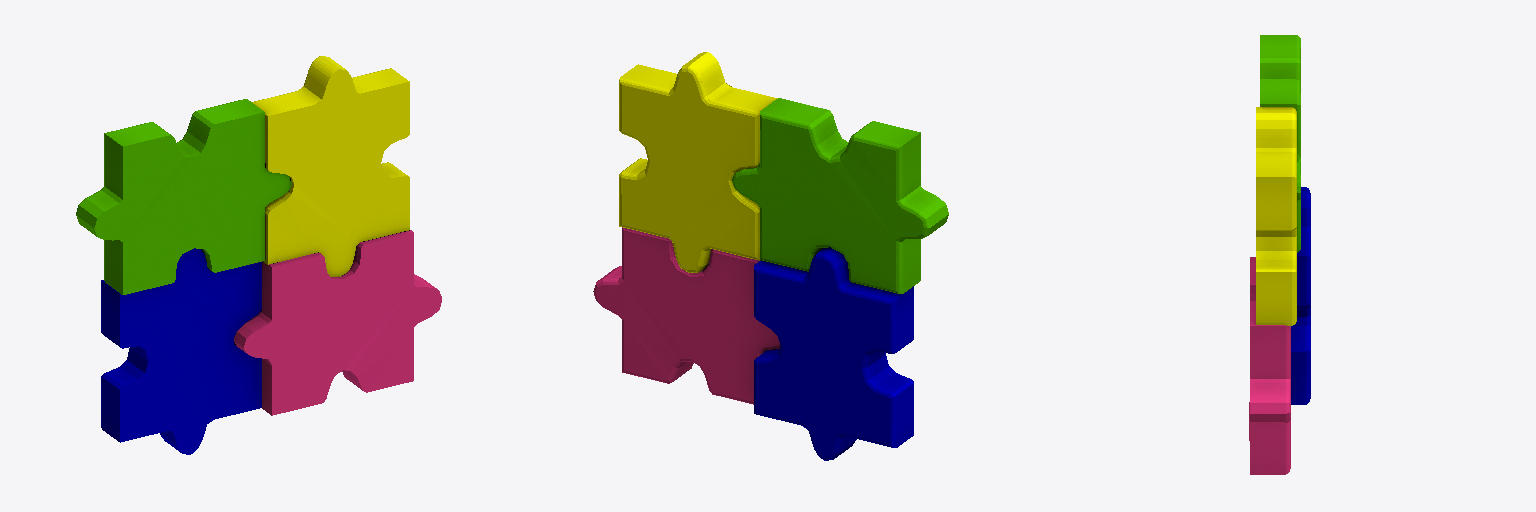
3 renders of one model, left to right at view 1: azimuth 30°, elevation 25°; view 2: azimuth 150°, elevation 25°; view 3: azimuth 270°, elevation 25°, orthographic.
Parts seen in each view (by area): view 1: puzzle; view 2: puzzle; view 3: puzzle.
Boxes of the visible parts, x1,y1,x2,y2 form: puzzle: [76, 56, 441, 454]; puzzle: [593, 52, 948, 460]; puzzle: [1249, 35, 1310, 474].
Size of the model in its own units: 48.21 by 47.91 by 7.47.
1 materials, 1 textured.